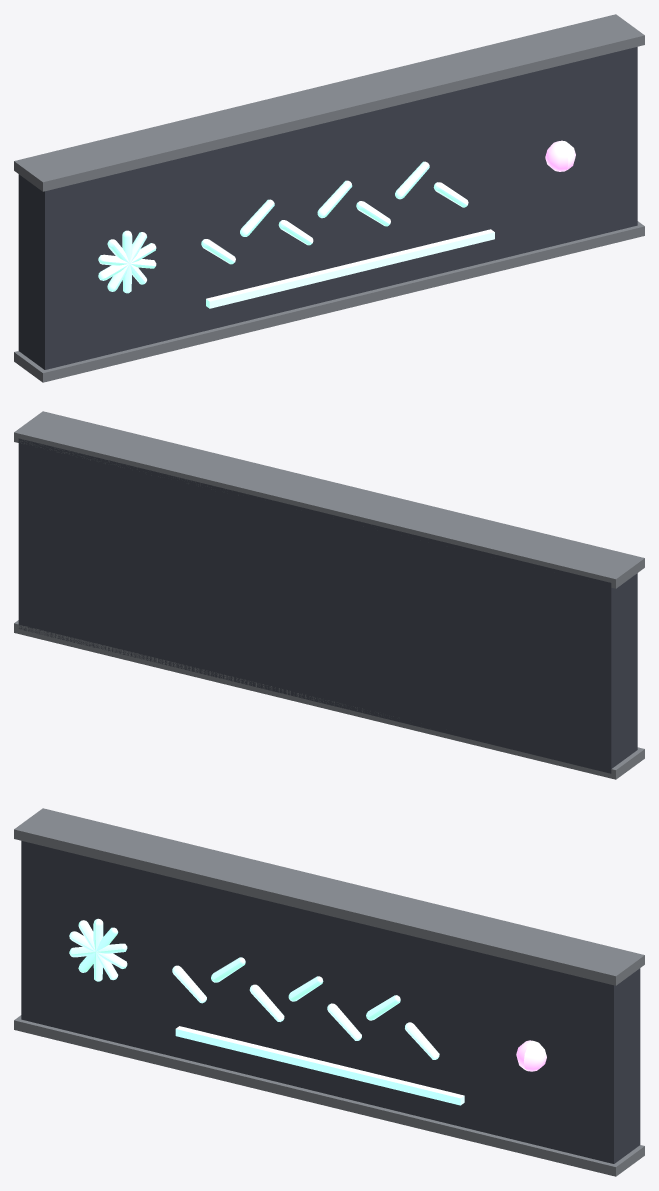
Rendered from prop_neon_sign.glb.
The picture shows the model from 3 angles, top to bottom: view 1: azimuth 30°, elevation 25°; view 2: azimuth 150°, elevation 25°; view 3: azimuth 330°, elevation 25°; orthographic projection.
Parts seen in each view (by area): view 1: prop_neon_sign; view 2: prop_neon_sign; view 3: prop_neon_sign.
Boxes of the visible parts, x1=… form: prop_neon_sign: x1=14, y1=14, x2=644, y2=382; prop_neon_sign: x1=14, y1=411, x2=644, y2=779; prop_neon_sign: x1=14, y1=808, x2=644, y2=1176.
Bounding box in the file's own units: 2.64 × 0.84 × 0.28.
